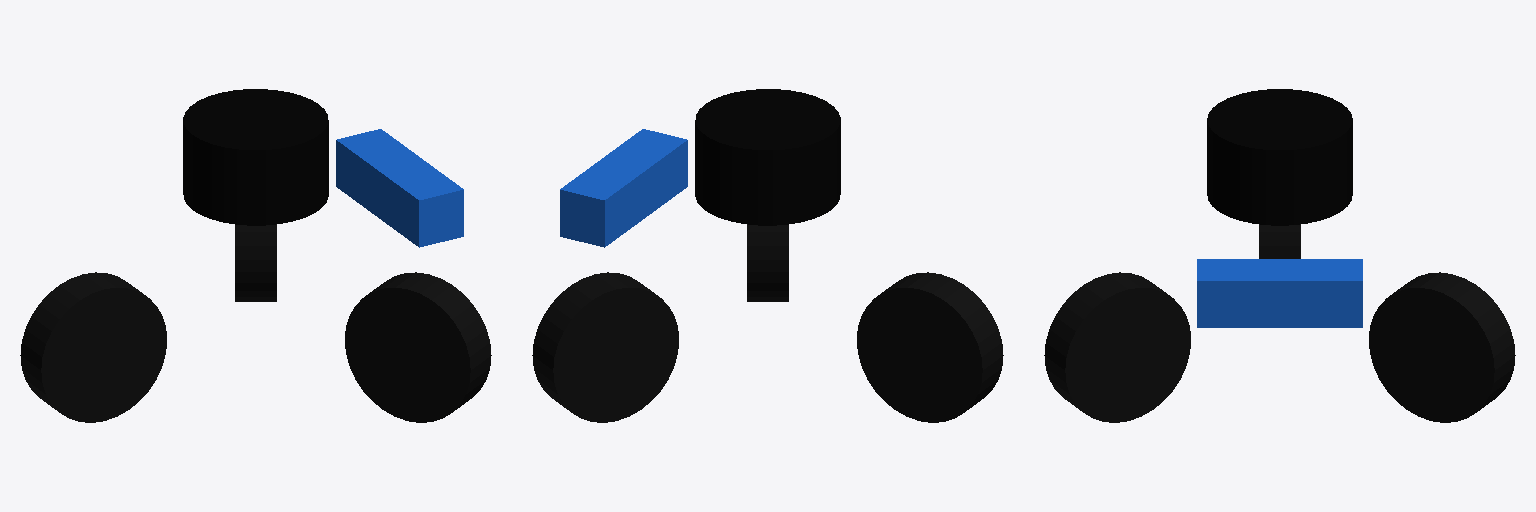
robot.urdf — mbot_omni:
<?xml version="1.0" ?>
<!-- MBot Omni Robot URDF for EECS 367 / AutoRob -->
<robot name="mbot_omni">
  <material name="chassis_metal">
    <color rgba="0.2 0.25 0.32 1.0"/>
  </material>
  <material name="wheel_rubber">
    <color rgba="0.1 0.1 0.1 1.0"/>
  </material>
  <material name="lidar_black">
    <color rgba="0.05 0.05 0.05 1.0"/>
  </material>
  <material name="sensor_blue">
    <color rgba="0.15 0.45 0.85 1.0"/>
  </material>

  <!-- Base Link / Chassis -->
  <link name="base_link">
    <visual>
      <origin rpy="0 0 0" xyz="0 0 0"/>
      <geometry>
        <mesh filename="meshes/omni.glb" scale="1 1 1"/>
      </geometry>
      <material name="chassis_metal"/>
    </visual>
    <collision>
      <origin rpy="0 0 0" xyz="0 0 0.04"/>
      <geometry>
        <cylinder length="0.10" radius="0.10"/>
      </geometry>
    </collision>
    <inertial>
      <origin rpy="0 0 0" xyz="0 0 0.03"/>
      <mass value="2.5"/>
      <inertia ixx="0.008" ixy="0" ixz="0" iyy="0.008" iyz="0" izz="0.012"/>
    </inertial>
  </link>

  <!-- Back Omni Wheel -->
  <link name="wheel_back">
    <visual>
      <origin rpy="1.57079632679 0 0" xyz="0 0 0"/>
      <geometry>
        <cylinder length="0.02" radius="0.035"/>
      </geometry>
      <material name="wheel_rubber"/>
    </visual>
    <collision>
      <origin rpy="1.57079632679 0 0" xyz="0 0 0"/>
      <geometry>
        <cylinder length="0.02" radius="0.035"/>
      </geometry>
    </collision>
    <inertial>
      <mass value="0.15"/>
      <inertia ixx="0.0001" ixy="0" ixz="0" iyy="0.0001" iyz="0" izz="0.0001"/>
    </inertial>
  </link>

  <joint name="wheel_back_joint" type="continuous">
    <parent link="base_link"/>
    <child link="wheel_back"/>
    <origin rpy="0 0 3.14159265359" xyz="-0.09 0 0"/>
    <axis xyz="0 1 0"/>
  </joint>

  <!-- Front-Right Omni Wheel -->
  <link name="wheel_front_right">
    <visual>
      <origin rpy="1.57079632679 0 0" xyz="0 0 0"/>
      <geometry>
        <cylinder length="0.02" radius="0.035"/>
      </geometry>
      <material name="wheel_rubber"/>
    </visual>
    <collision>
      <origin rpy="1.57079632679 0 0" xyz="0 0 0"/>
      <geometry>
        <cylinder length="0.02" radius="0.035"/>
      </geometry>
    </collision>
    <inertial>
      <mass value="0.15"/>
      <inertia ixx="0.0001" ixy="0" ixz="0" iyy="0.0001" iyz="0" izz="0.0001"/>
    </inertial>
  </link>

  <joint name="wheel_front_right_joint" type="continuous">
    <parent link="base_link"/>
    <child link="wheel_front_right"/>
    <origin rpy="0 0 -1.0471975512" xyz="0.045 -0.07794 0"/>
    <axis xyz="0 1 0"/>
  </joint>

  <!-- Front-Left Omni Wheel -->
  <link name="wheel_front_left">
    <visual>
      <origin rpy="1.57079632679 0 0" xyz="0 0 0"/>
      <geometry>
        <cylinder length="0.02" radius="0.035"/>
      </geometry>
      <material name="wheel_rubber"/>
    </visual>
    <collision>
      <origin rpy="1.57079632679 0 0" xyz="0 0 0"/>
      <geometry>
        <cylinder length="0.02" radius="0.035"/>
      </geometry>
    </collision>
    <inertial>
      <mass value="0.15"/>
      <inertia ixx="0.0001" ixy="0" ixz="0" iyy="0.0001" iyz="0" izz="0.0001"/>
    </inertial>
  </link>

  <joint name="wheel_front_left_joint" type="continuous">
    <parent link="base_link"/>
    <child link="wheel_front_left"/>
    <origin rpy="0 0 1.0471975512" xyz="0.045 0.07794 0"/>
    <axis xyz="0 1 0"/>
  </joint>

  <!-- RPLidar Laser Scanner -->
  <link name="lidar_link">
    <visual>
      <origin rpy="0 0 0" xyz="0 0 0"/>
      <geometry>
        <cylinder length="0.04" radius="0.035"/>
      </geometry>
      <material name="lidar_black"/>
    </visual>
    <collision>
      <origin rpy="0 0 0" xyz="0 0 0"/>
      <geometry>
        <cylinder length="0.04" radius="0.035"/>
      </geometry>
    </collision>
    <inertial>
      <mass value="0.2"/>
      <inertia ixx="0.0001" ixy="0" ixz="0" iyy="0.0001" iyz="0" izz="0.0001"/>
    </inertial>
  </link>

  <joint name="lidar_joint" type="fixed">
    <parent link="base_link"/>
    <child link="lidar_link"/>
    <origin rpy="0 0 0" xyz="0 0 0.08"/>
  </joint>

  <!-- Forward-Facing Camera -->
  <link name="camera_link">
    <visual>
      <origin rpy="0 0 0" xyz="0 0 0"/>
      <geometry>
        <box size="0.025 0.08 0.025"/>
      </geometry>
      <material name="sensor_blue"/>
    </visual>
    <collision>
      <origin rpy="0 0 0" xyz="0 0 0"/>
      <geometry>
        <box size="0.025 0.08 0.025"/>
      </geometry>
    </collision>
    <inertial>
      <mass value="0.08"/>
      <inertia ixx="0.00005" ixy="0" ixz="0" iyy="0.00005" iyz="0" izz="0.00005"/>
    </inertial>
  </link>

  <joint name="camera_joint" type="fixed">
    <parent link="base_link"/>
    <child link="camera_link"/>
    <origin rpy="0 0 0" xyz="0.08 0 0.045"/>
  </joint>
</robot>

--- What the picture shows (computed from the rendered views, not written in the file) ---
The picture shows the robot from 3 angles, left to right: view 1: azimuth 30°, elevation 25°; view 2: azimuth 150°, elevation 25°; view 3: azimuth 270°, elevation 25°; orthographic projection.
Robot: mbot_omni — 6 links, 5 joints (3 continuous, 2 fixed); root link base_link; default pose: all joints at 0.
Visible links, largest first — view 1: lidar_link, wheel_back, wheel_front_right, camera_link, wheel_front_left; view 2: lidar_link, wheel_back, wheel_front_left, camera_link, wheel_front_right; view 3: lidar_link, wheel_front_right, wheel_front_left, camera_link, wheel_back.
Boxes of the visible links, x1=… form: lidar_link: x1=183, y1=89, x2=328, y2=225; wheel_back: x1=20, y1=272, x2=166, y2=422; wheel_front_right: x1=345, y1=272, x2=491, y2=422; camera_link: x1=336, y1=129, x2=463, y2=247; wheel_front_left: x1=235, y1=224, x2=276, y2=301; lidar_link: x1=695, y1=89, x2=840, y2=225; wheel_back: x1=857, y1=272, x2=1003, y2=422; wheel_front_left: x1=532, y1=272, x2=678, y2=422; camera_link: x1=560, y1=129, x2=687, y2=247; wheel_front_right: x1=747, y1=224, x2=788, y2=301; lidar_link: x1=1207, y1=89, x2=1352, y2=225; wheel_front_right: x1=1044, y1=272, x2=1190, y2=422; wheel_front_left: x1=1369, y1=272, x2=1515, y2=422; camera_link: x1=1197, y1=259, x2=1362, y2=327; wheel_back: x1=1259, y1=224, x2=1300, y2=258.
Bounding box of the posed robot: 0.2175 × 0.2265 × 0.135 m (x, y, z).
0 mesh visuals loaded from 1 distinct referenced files (none loaded); not drawn: 1 (reference not matched to a file when rendering).
